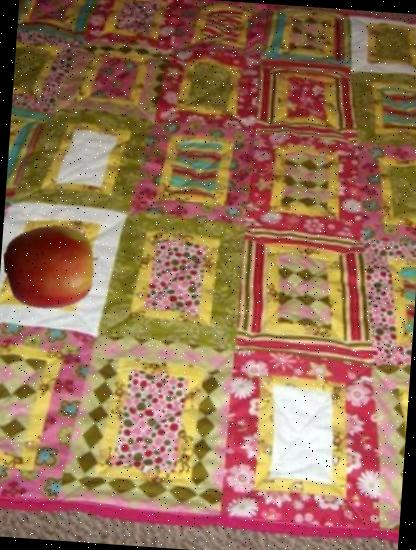Apple: (1, 216, 102, 317)
